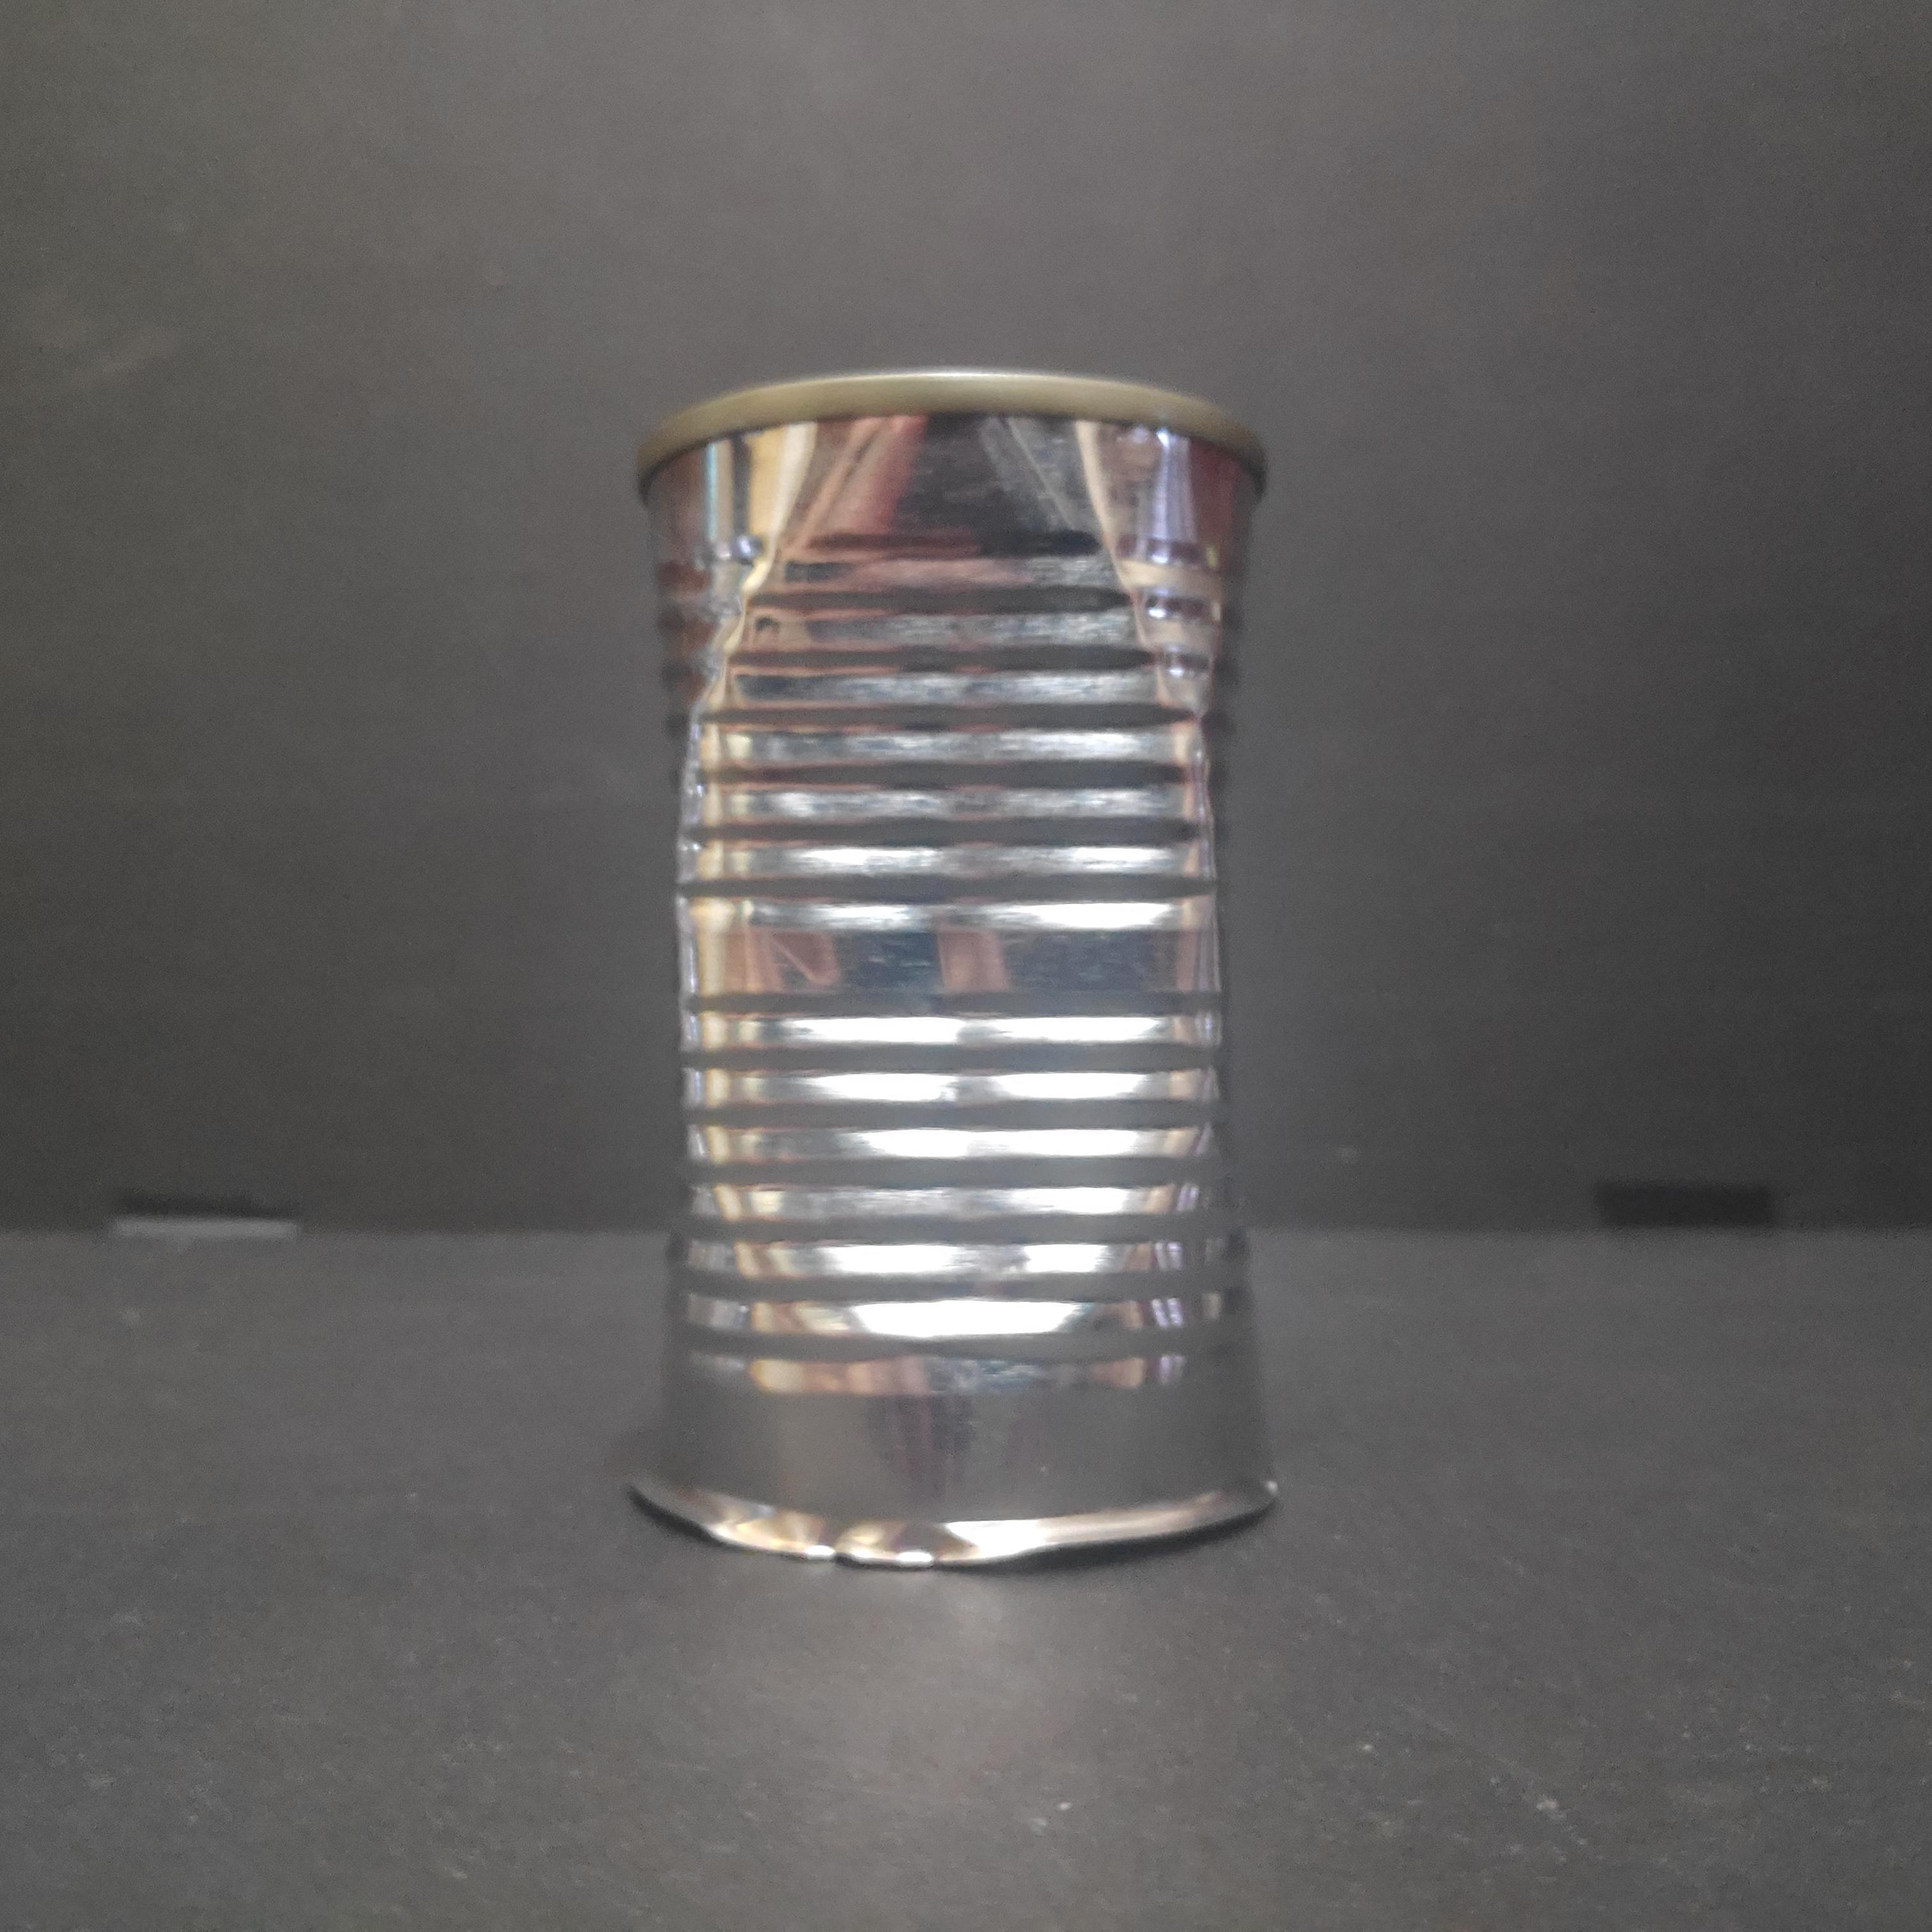Dented: (614, 341, 1304, 1587)
